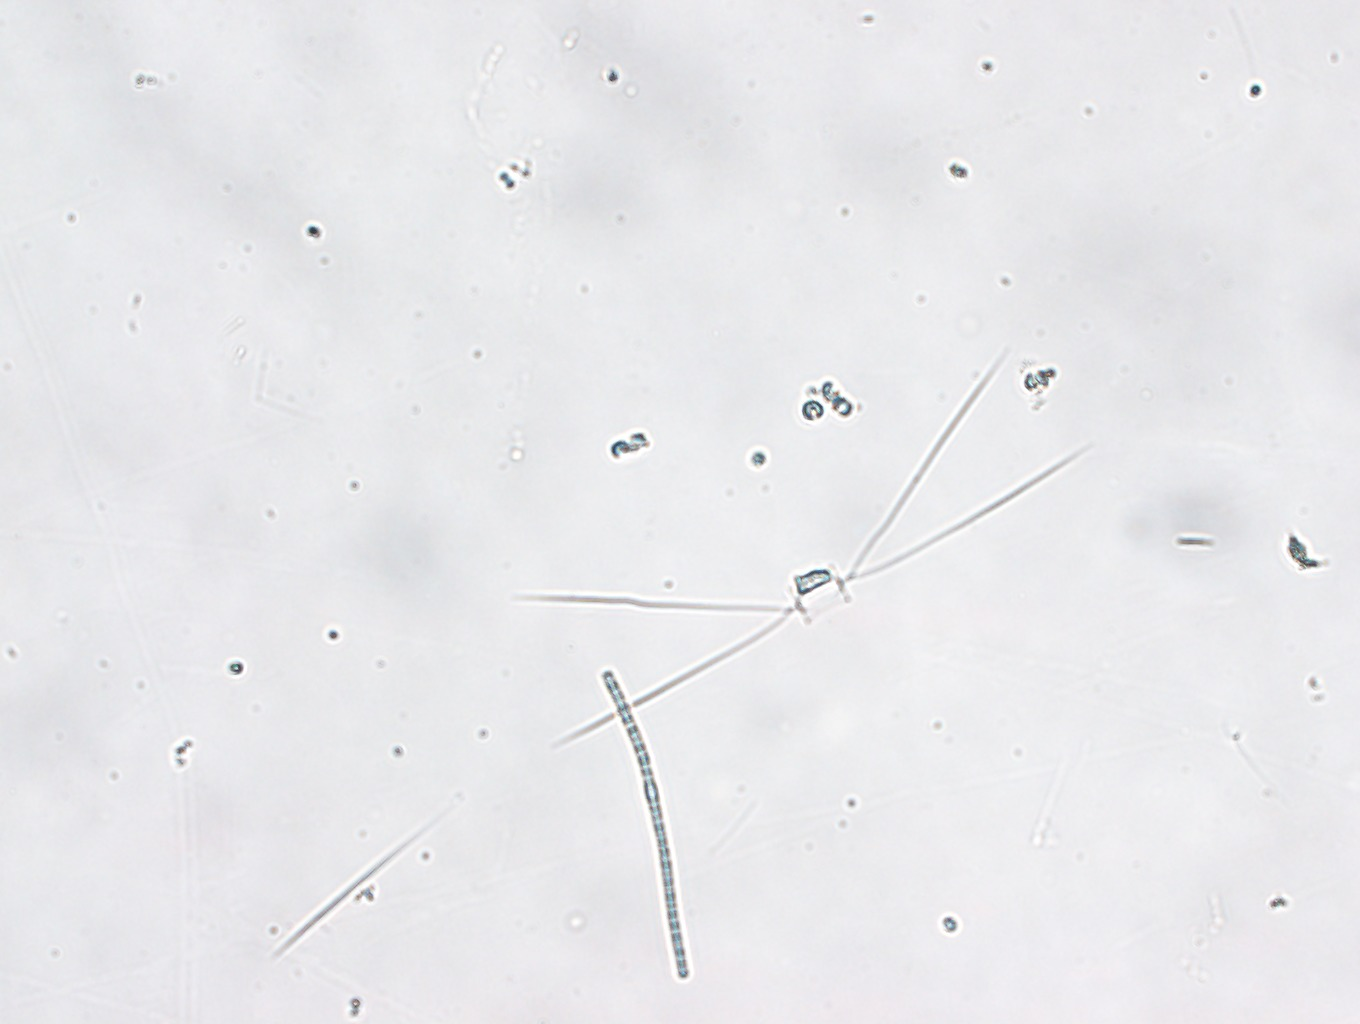chaetoceros: (513, 346, 1097, 746)
